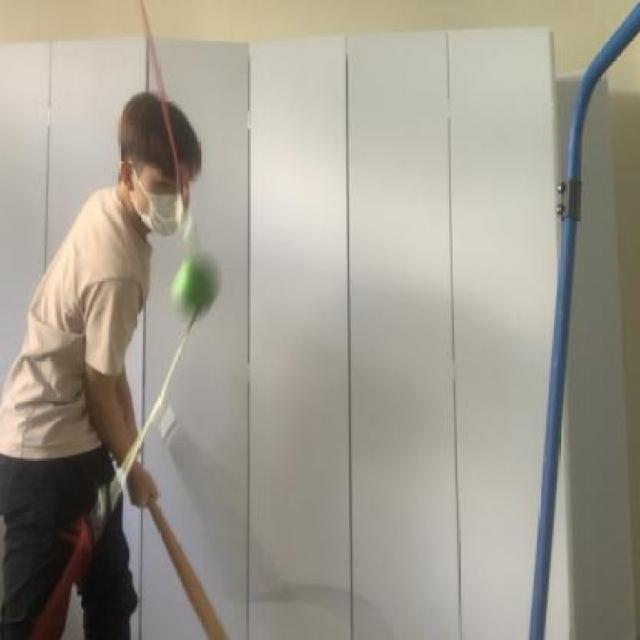baseball: (160, 247, 226, 321)
